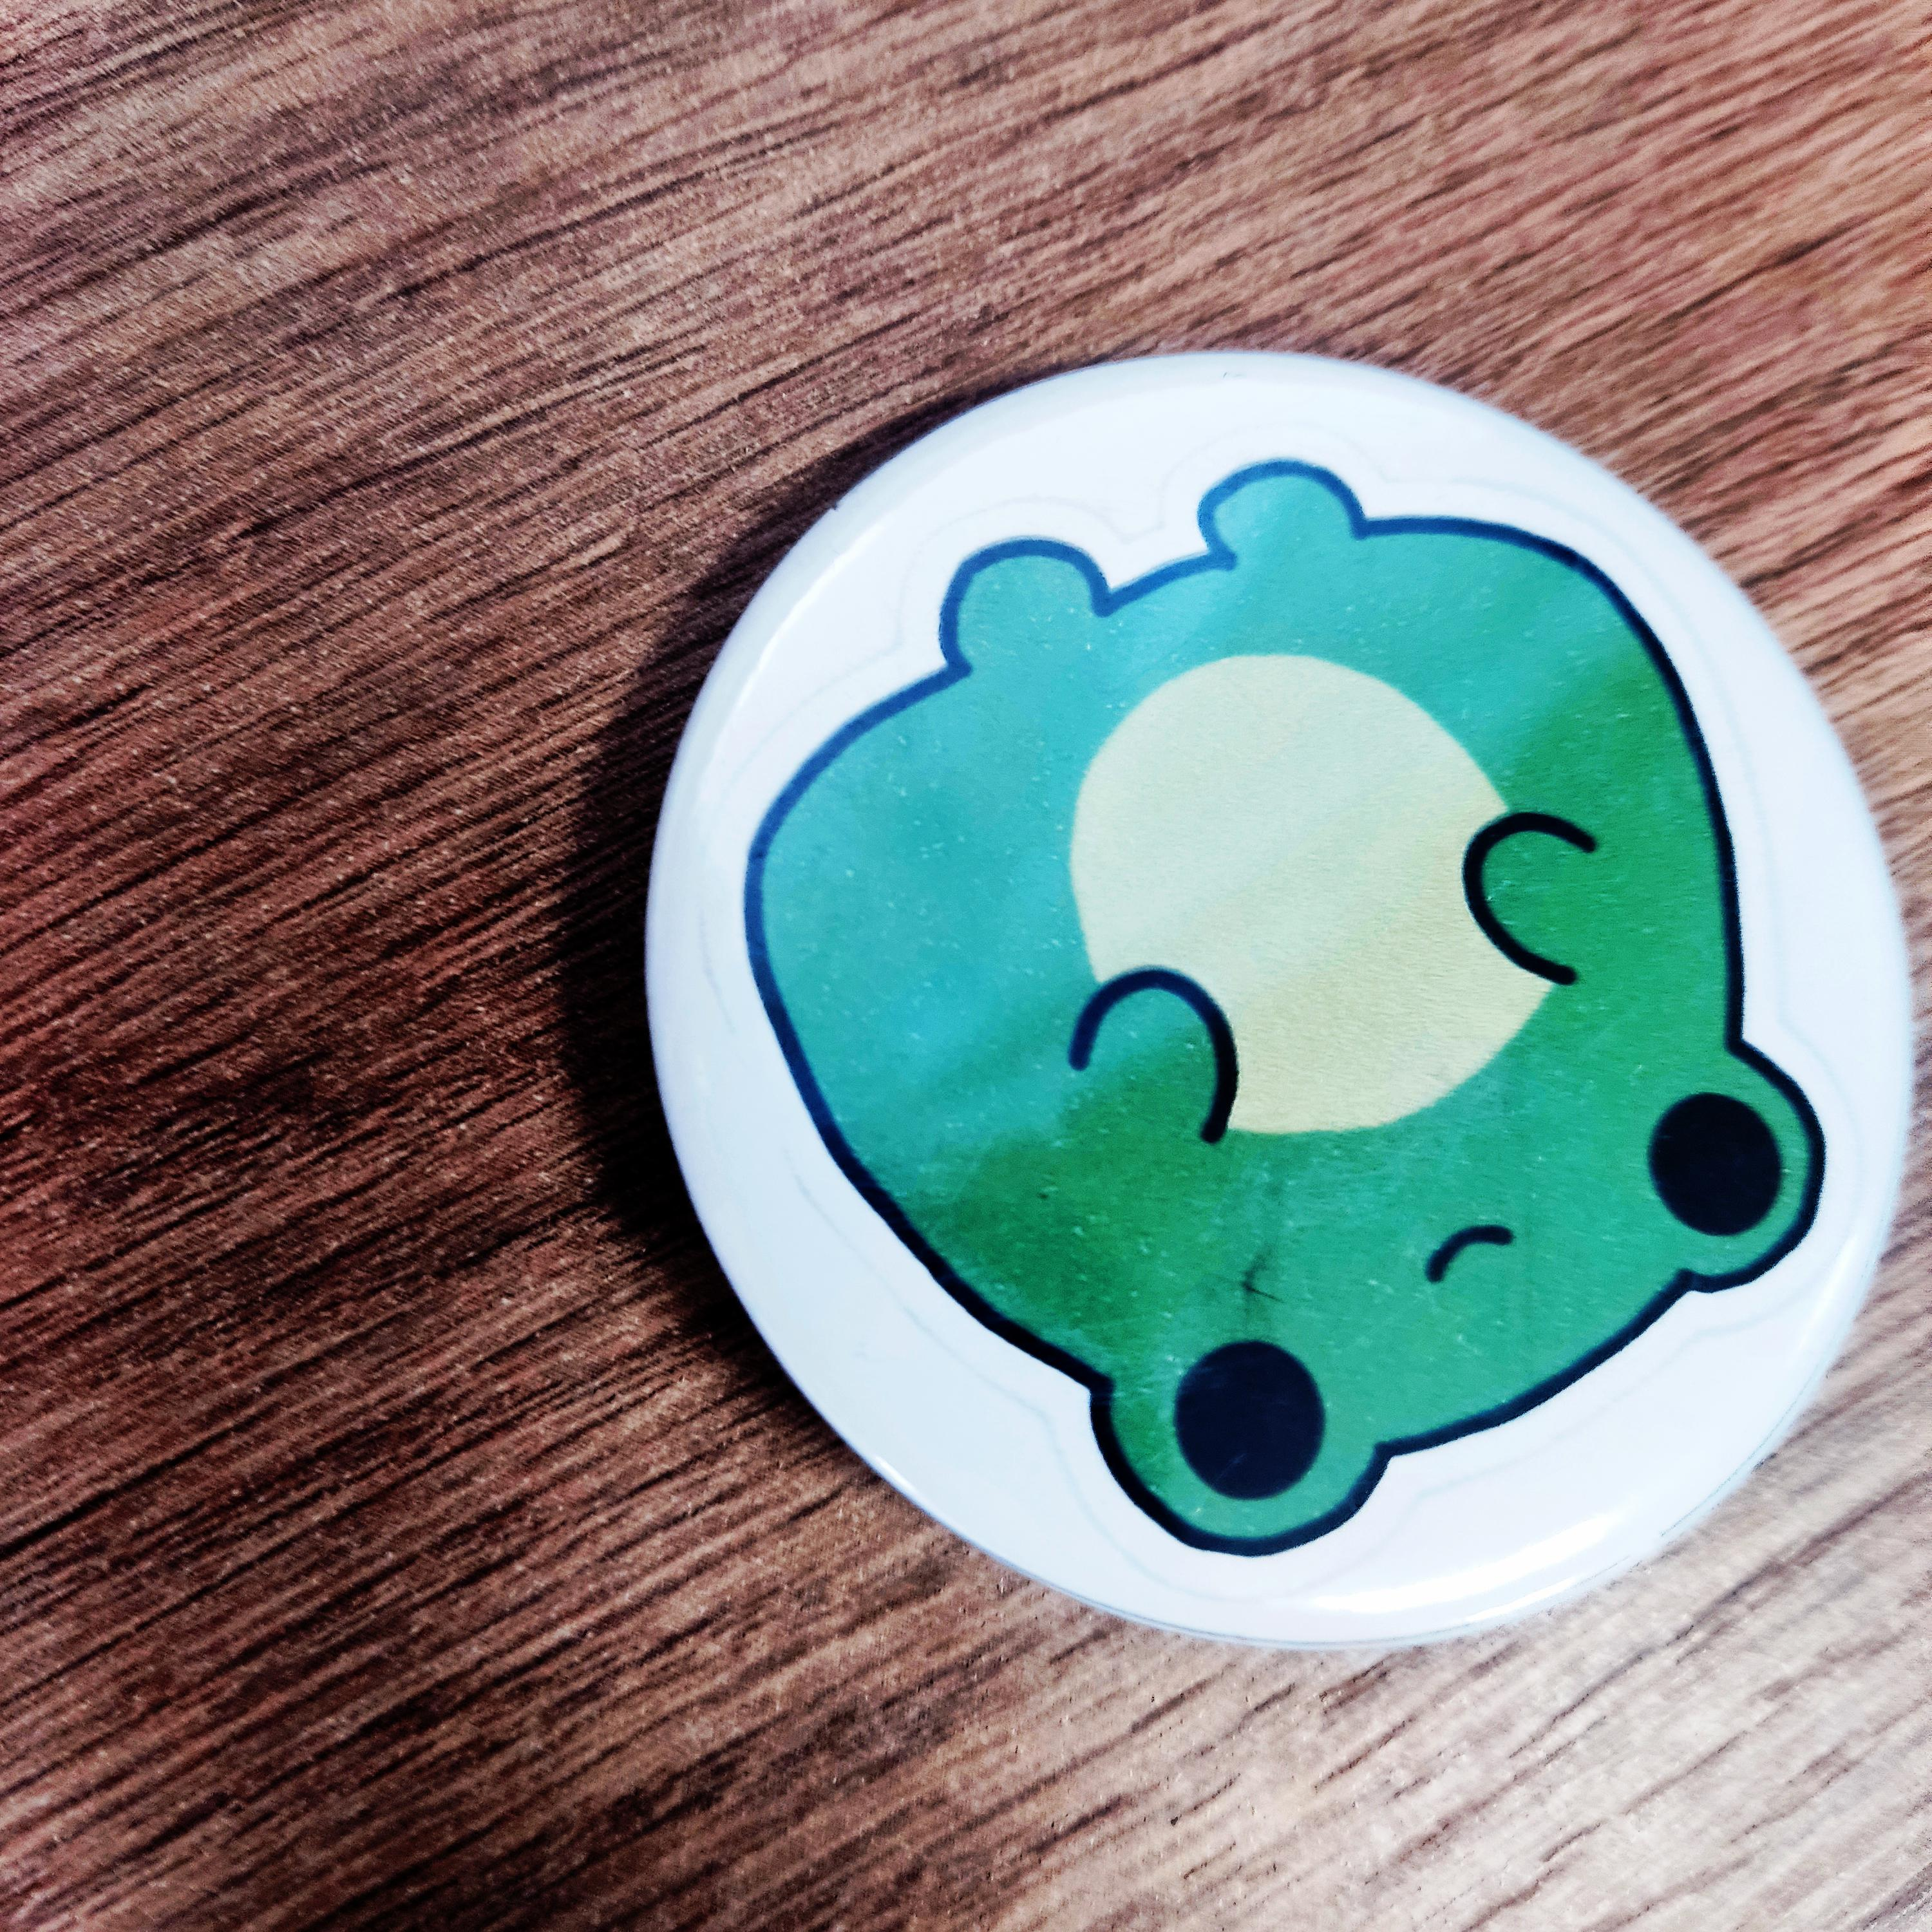pin: (637, 343, 1914, 1647)
